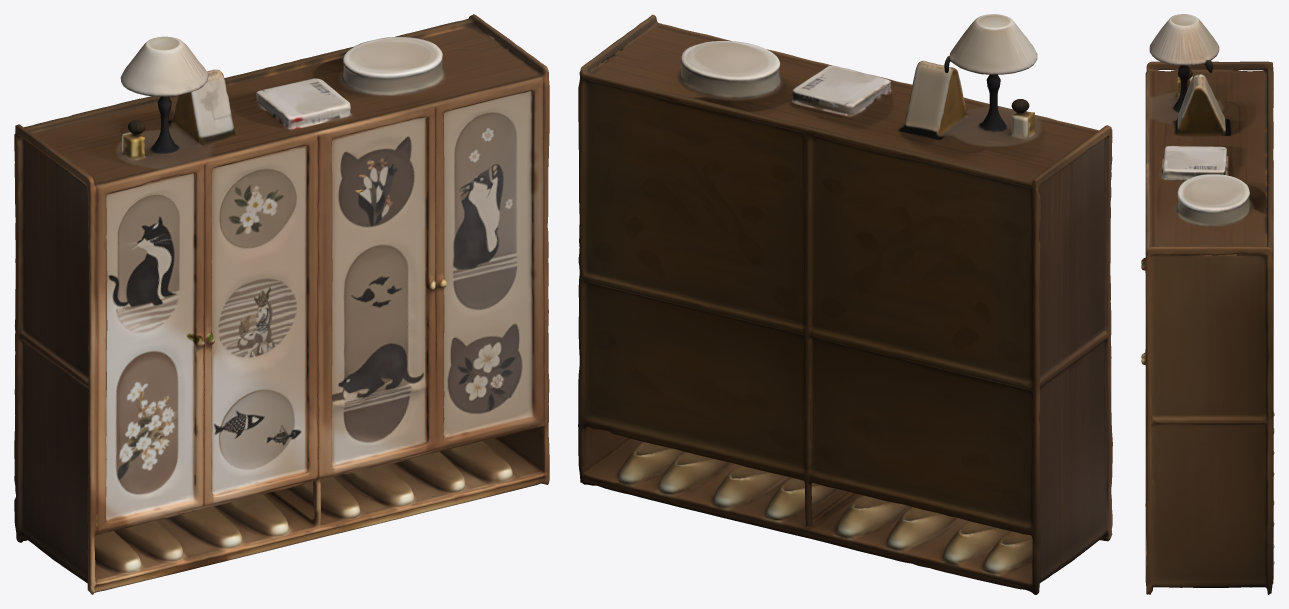
Rendered from 玄关柜 (2).fbx.
The picture shows the model from 3 angles, left to right: view 1: azimuth 30°, elevation 25°; view 2: azimuth 150°, elevation 25°; view 3: azimuth 270°, elevation 25°; orthographic projection. The views are drawn at different scales.
Parts seen in each view (by area): view 1: model; view 2: model; view 3: model.
Boxes of the visible parts, left/top/right/bottom form: model: left=14, top=14, right=549, bottom=594; model: left=578, top=14, right=1112, bottom=594; model: left=1141, top=14, right=1274, bottom=594.
Bounding box in the file's own units: 166 × 177 × 49.97.
1 material, 1 textured.
